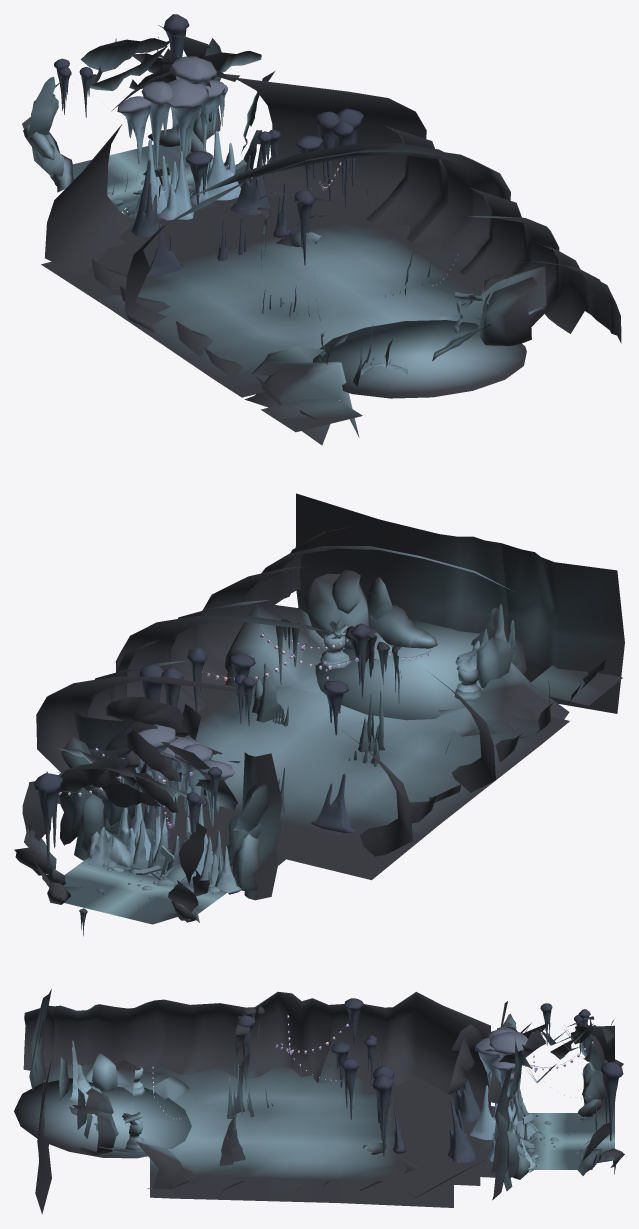
The model's file is Arctic_Tunnels_T_Junction_B.glb.
3 views of the same model, one above another, from view 1: azimuth 30°, elevation 25°; view 2: azimuth 150°, elevation 25°; view 3: azimuth 270°, elevation 25° (orthographic). The views are drawn at different scales.
Visible parts, largest first — view 1: Arctic_Tunnels_T_Junction_B, Arctic_Tunnels_Icicle_Bright_A02, Arctic_Tunnels_Icicle_Bright_A06, Arctic_Tunnels_Icicle_Bright_A05 (3), Arctic_Tunnels_Icicle_Bright_A04 (2), Arctic_Tunnels_Icicle_Shadow_A07, Arctic_Tunnels_Icicle_Shadow_A04, Arctic_Tunnels_Icicle_Bright_A07, Arctic_Tunnels_Icicle_Bright_A04, Arctic_Tunnels_Icicle_Shadow_A08 (1), Arctic_Tunnels_Icicle_Bright_A02 (4), Arctic_Tunnels_Icicle_Shadow_A07 (1) (+6 smaller); view 2: Arctic_Tunnels_T_Junction_B, Arctic_Tunnels_Icicle_Shadow_A02, Arctic_Tunnels_Icicle_Shadow_A08 (1), Arctic_Tunnels_Icicle_Bright_A06, Arctic_Tunnels_Icicle_Bright_A05 (3), Arctic_Tunnels_Icicle_Bright_A04, Arctic_Tunnels_Icicle_Bright_A02, Arctic_Tunnels_Icicle_Shadow_A07 (8), Arctic_Tunnels_Icicle_Shadow_A07 (7), Arctic_Tunnels_Icicle_Shadow_A07 (2); view 3: Arctic_Tunnels_T_Junction_B, Arctic_Tunnels_Icicle_Shadow_A07, Arctic_Tunnels_Icicle_Shadow_A02, Arctic_Tunnels_Icicle_Shadow_A07 (2), Arctic_Tunnels_Icicle_Bright_A04, Arctic_Tunnels_Icicle_Shadow_A04, Arctic_Tunnels_Icicle_Bright_A04 (2), Arctic_Tunnels_Icicle_Bright_A02, Arctic_Tunnels_Icicle_Shadow_A07 (5), Arctic_Tunnels_Icicle_Shadow_A07 (8), Arctic_Tunnels_Icicle_Shadow_A07 (7), Arctic_Tunnels_Icicle_Shadow_A07 (6).
Part boxes in pixels (bbox=[...]): Arctic_Tunnels_T_Junction_B: bbox=[22, 25, 621, 445]; Arctic_Tunnels_Icicle_Bright_A02: bbox=[164, 79, 208, 165]; Arctic_Tunnels_Icicle_Bright_A06: bbox=[141, 81, 172, 170]; Arctic_Tunnels_Icicle_Bright_A05 (3): bbox=[206, 131, 241, 200]; Arctic_Tunnels_Icicle_Bright_A04 (2): bbox=[159, 151, 193, 220]; Arctic_Tunnels_Icicle_Shadow_A07: bbox=[230, 145, 270, 214]; Arctic_Tunnels_Icicle_Shadow_A04: bbox=[131, 159, 159, 236]; Arctic_Tunnels_Icicle_Bright_A07: bbox=[117, 96, 152, 163]; Arctic_Tunnels_Icicle_Bright_A04: bbox=[170, 56, 216, 151]; Arctic_Tunnels_Icicle_Shadow_A08 (1): bbox=[146, 224, 183, 277]; Arctic_Tunnels_Icicle_Bright_A02 (4): bbox=[128, 138, 169, 215]; Arctic_Tunnels_Icicle_Shadow_A07 (1): bbox=[316, 111, 340, 202]; Arctic_Tunnels_T_Junction_B: bbox=[14, 493, 624, 924]; Arctic_Tunnels_Icicle_Shadow_A02: bbox=[34, 773, 62, 868]; Arctic_Tunnels_Icicle_Shadow_A08 (1): bbox=[311, 773, 356, 832]; Arctic_Tunnels_Icicle_Bright_A06: bbox=[174, 744, 212, 831]; Arctic_Tunnels_Icicle_Bright_A05 (3): bbox=[117, 803, 150, 862]; Arctic_Tunnels_Icicle_Bright_A04: bbox=[138, 724, 175, 817]; Arctic_Tunnels_Icicle_Bright_A02: bbox=[162, 736, 208, 828]; Arctic_Tunnels_Icicle_Shadow_A07 (8): bbox=[323, 680, 348, 735]; Arctic_Tunnels_Icicle_Shadow_A07 (7): bbox=[351, 623, 370, 697]; Arctic_Tunnels_Icicle_Shadow_A07 (2): bbox=[139, 664, 164, 702]; Arctic_Tunnels_T_Junction_B: bbox=[14, 989, 624, 1214]; Arctic_Tunnels_Icicle_Shadow_A07: bbox=[447, 1100, 477, 1162]; Arctic_Tunnels_Icicle_Shadow_A02: bbox=[601, 1062, 623, 1141]; Arctic_Tunnels_Icicle_Shadow_A07 (2): bbox=[372, 1074, 394, 1156]; Arctic_Tunnels_Icicle_Bright_A04: bbox=[489, 1032, 527, 1106]; Arctic_Tunnels_Icicle_Shadow_A04: bbox=[455, 1073, 480, 1122]; Arctic_Tunnels_Icicle_Bright_A04 (2): bbox=[470, 1085, 497, 1139]; Arctic_Tunnels_Icicle_Bright_A02: bbox=[475, 1037, 502, 1087]; Arctic_Tunnels_Icicle_Shadow_A07 (5): bbox=[340, 1058, 358, 1119]; Arctic_Tunnels_Icicle_Shadow_A07 (8): bbox=[343, 998, 363, 1043]; Arctic_Tunnels_Icicle_Shadow_A07 (7): bbox=[236, 1015, 255, 1076]; Arctic_Tunnels_Icicle_Shadow_A07 (6): bbox=[331, 1042, 350, 1087].
Size of what is drawn, in the model's own units: 22.56 by 10.54 by 38.07.
